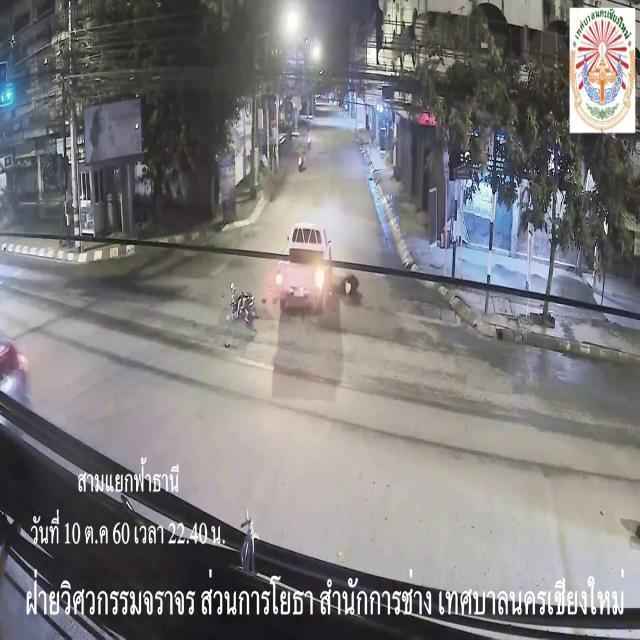accident: (223, 222, 363, 334)
